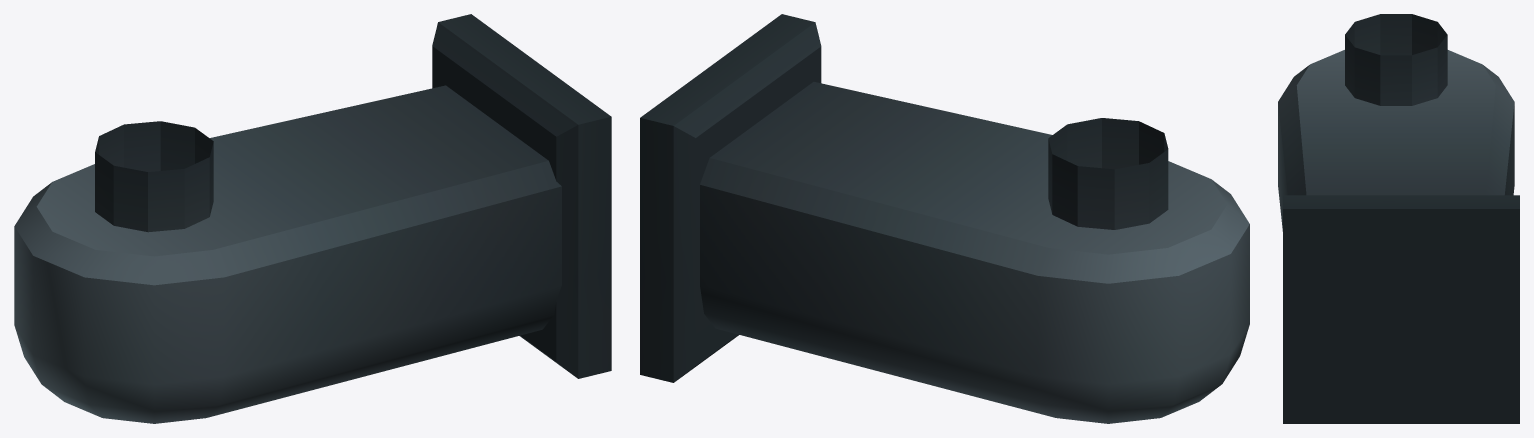
File: SM_CameraDesk.fbx
The picture shows the model from 3 angles, left to right: view 1: azimuth 30°, elevation 25°; view 2: azimuth 150°, elevation 25°; view 3: azimuth 270°, elevation 25°; orthographic projection. The views are drawn at different scales.
Visible parts, largest first — view 1: SM_CameraDesk; view 2: SM_CameraDesk; view 3: SM_CameraDesk.
Part boxes in pixels (x1,y1,x2,y2): SM_CameraDesk: (14, 14, 611, 423); SM_CameraDesk: (640, 14, 1249, 423); SM_CameraDesk: (1278, 14, 1519, 423).
Size of the model in its own units: 0.6004 by 0.2912 by 0.3034.
